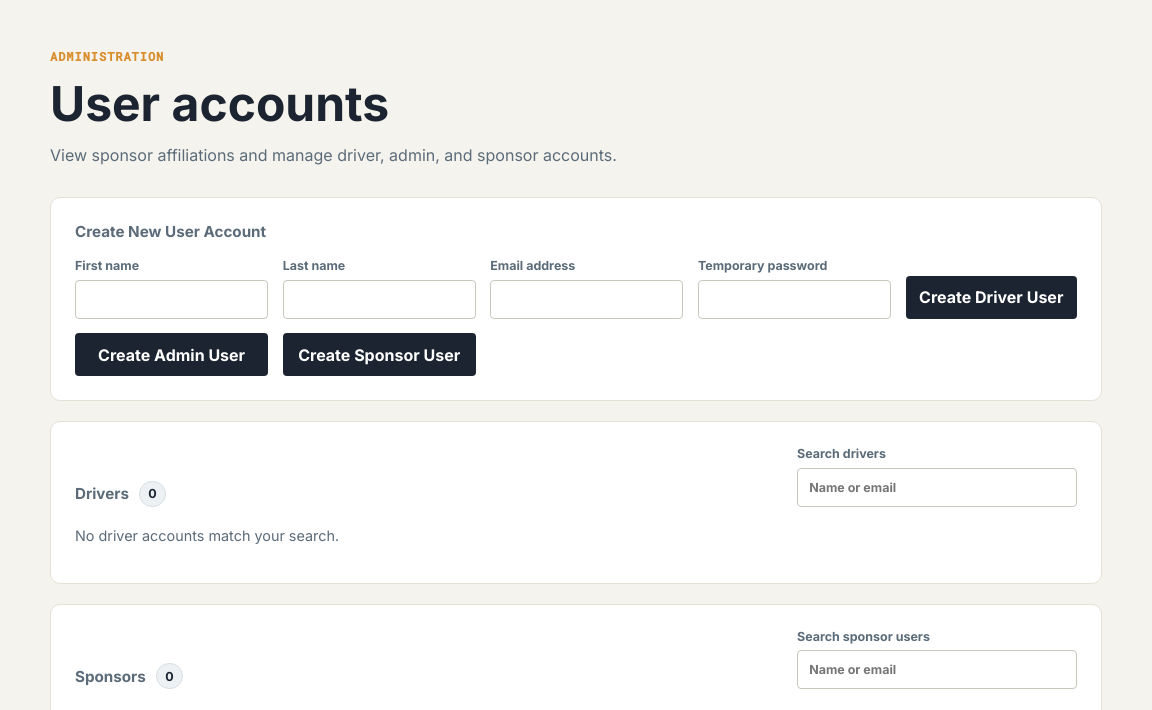
Test: creates a Sponsor using the shared fields
Check: the text "No driver accounts match your search." is shown, box [75,527,339,544]
Type "New" into the field labelled "First name" at (172, 299), box [75,280,268,319]
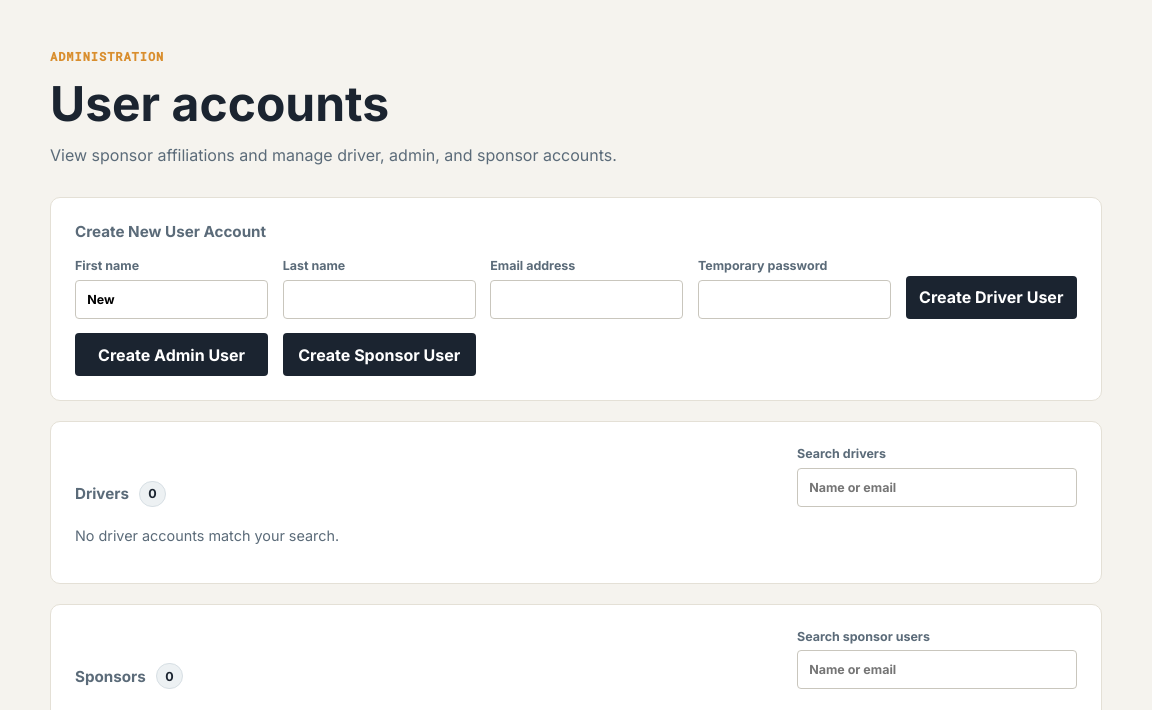
Type "User" into the field labelled "Last name" at (379, 299), box [283,280,476,319]
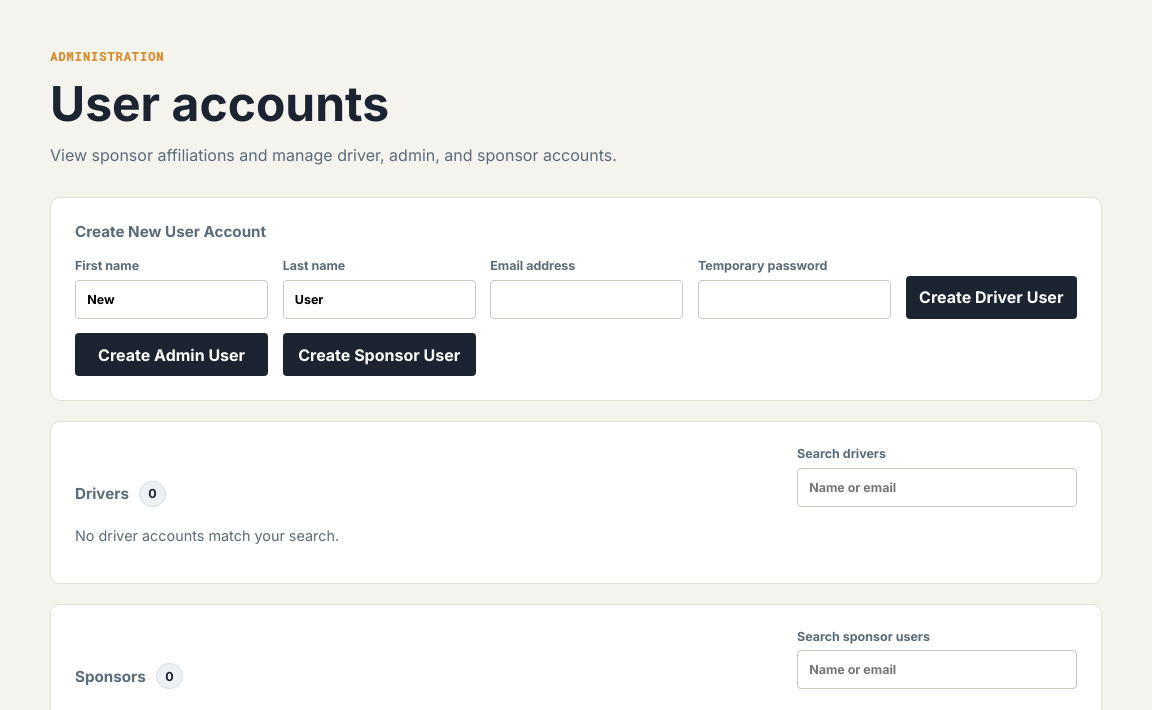
Type "new@example.com" into the field labelled "Email address" at (587, 299), box [490,280,684,319]
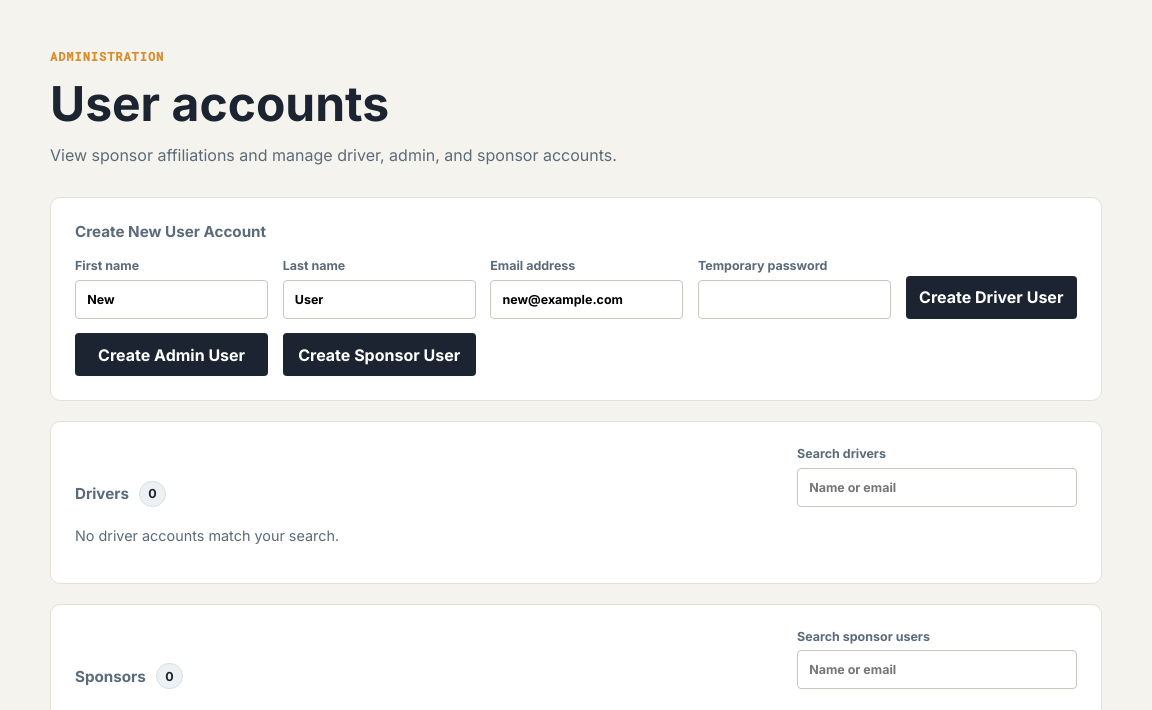
Type "test-password" into the password field labelled "Temporary password" at (794, 299), box [698,280,891,319]
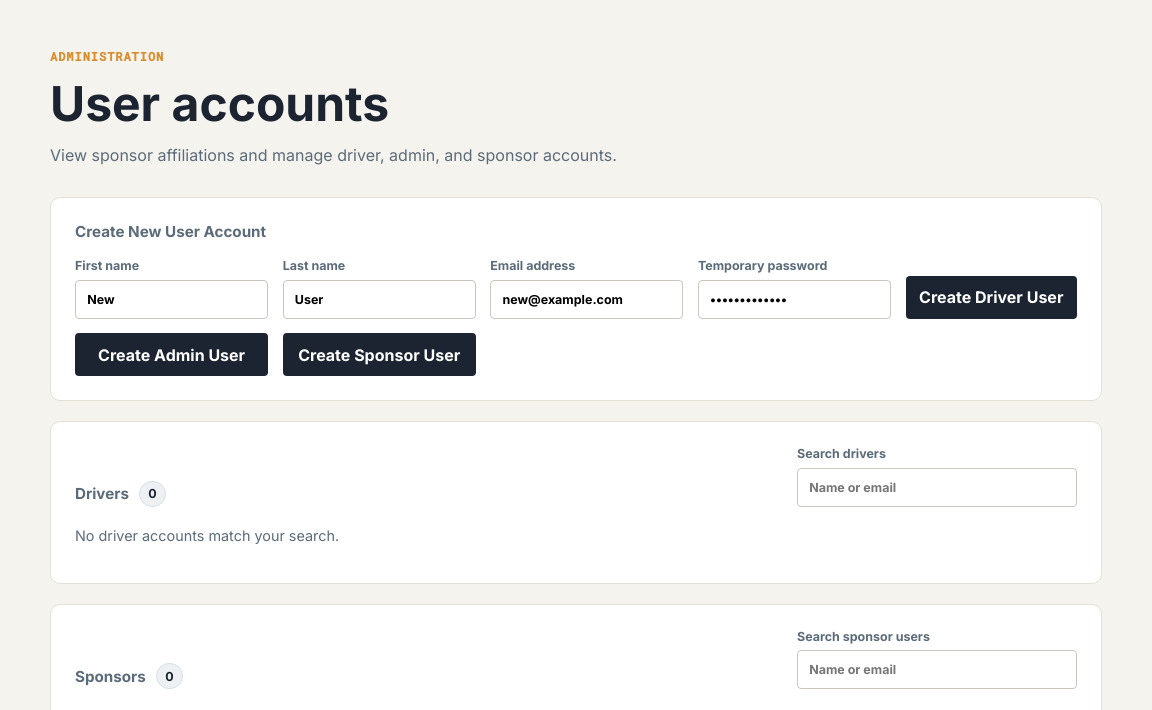
Click the button "Create Sponsor User" at (379, 355), box [283,333,476,376]
(page scrolled)
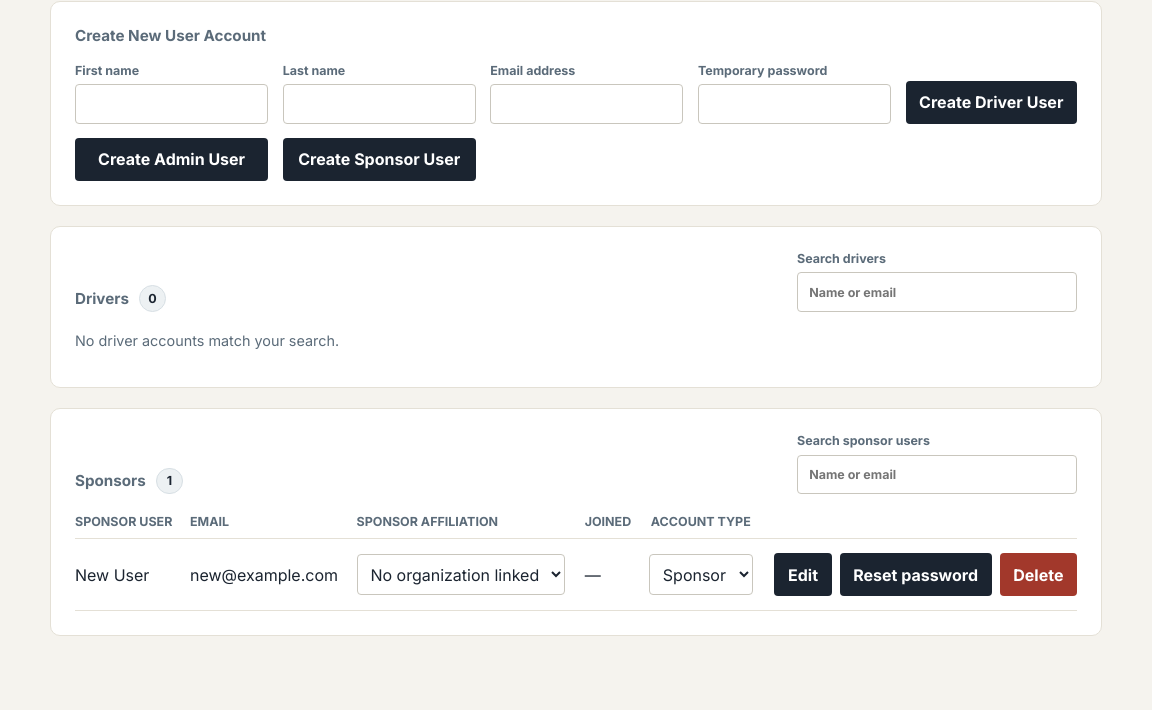
Check: the text "0" is shown, box [139,285,166,312]
Check: the text "1" is shown, box [156,468,183,494]
